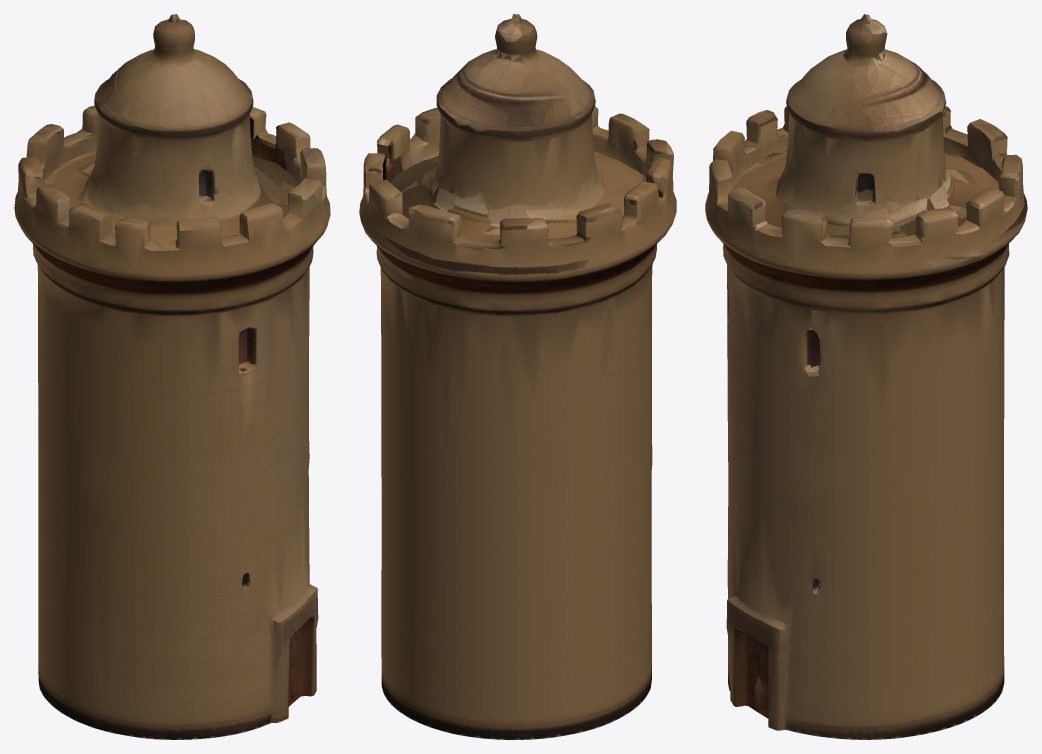
File: etiopia_torre.glb
3 views of the same model, side by side, from view 1: azimuth 30°, elevation 25°; view 2: azimuth 150°, elevation 25°; view 3: azimuth 270°, elevation 25° (orthographic).
Parts seen in each view (by area): view 1: geometry_0; view 2: geometry_0; view 3: geometry_0.
Boxes of the visible parts, x1,y1,x2,y2 form: geometry_0: (14, 14, 330, 739); geometry_0: (359, 14, 676, 739); geometry_0: (705, 14, 1027, 739).
Bounding box in the file's own units: 1.36 × 3.2 × 1.4.
Materials: 1 (1 with a texture image).
